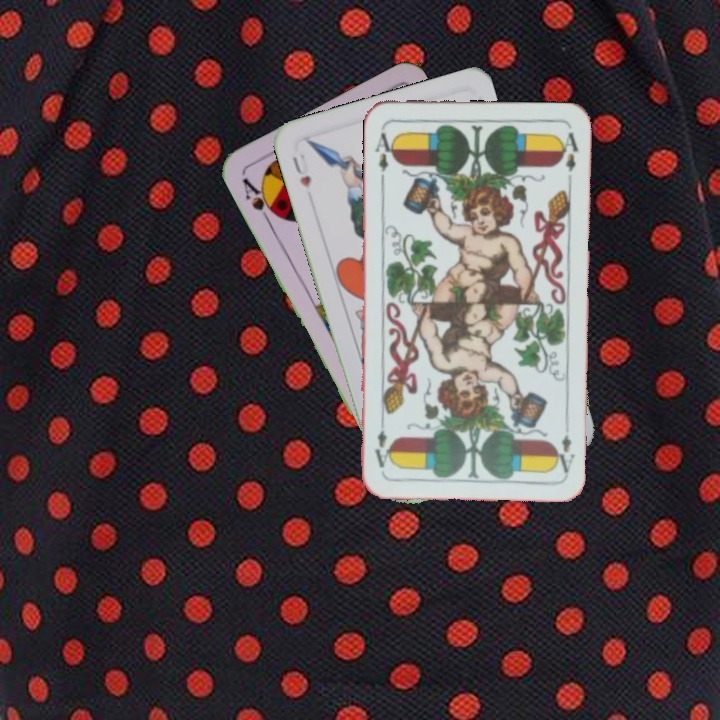EA: (371, 124, 397, 183), (551, 430, 578, 475)
HU: (288, 149, 314, 191)
SA: (238, 173, 281, 227)
